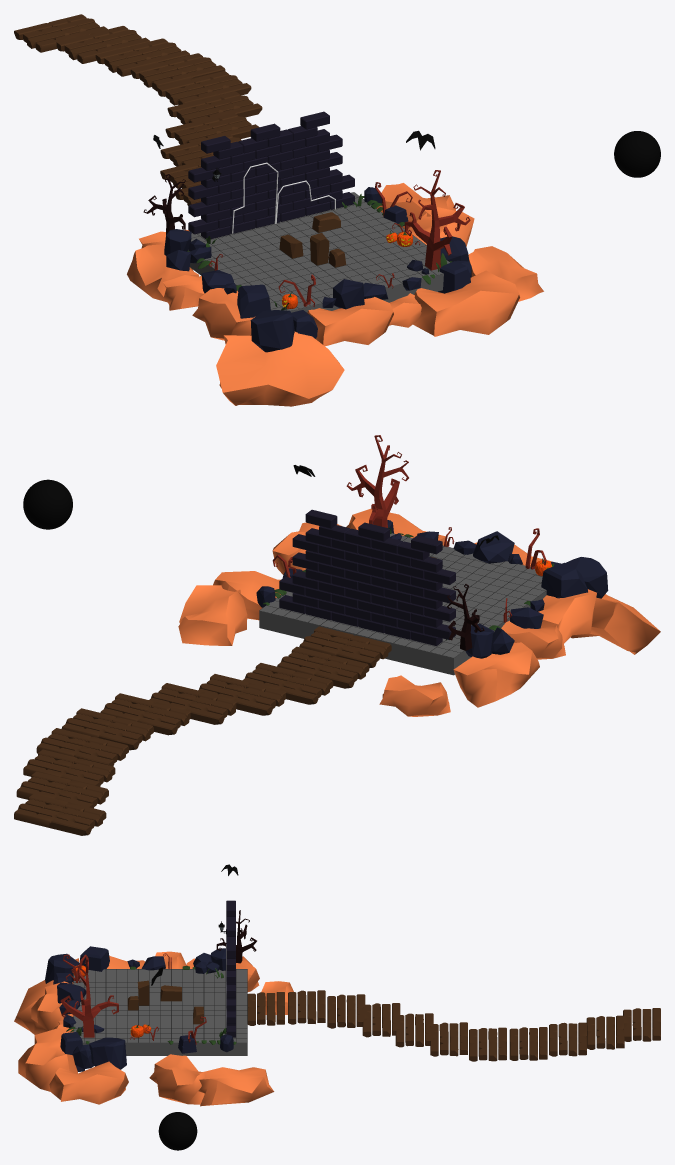
Rendered from ShadowWanderer_LVL1_01.FBX.
3 views of the same model, one above another, from view 1: azimuth 30°, elevation 25°; view 2: azimuth 150°, elevation 25°; view 3: azimuth 270°, elevation 25° (orthographic). The views are drawn at different scales.
Parts seen in each view (by area): view 1: Cloud_01, Box028, Ground, Wall, Stones, Portal, Grid, BigTree, Sphere001, Branches, SmallTree, Plants; view 2: Box028, Cloud_01, Wall, Ground, Stones, Portal, Sphere001, BigTree, Grid, SmallTree, Branches; view 3: Box028, Cloud_01, Ground, Stones, Grid, Wall, Sphere001, BigTree, Branches, SmallTree.
Boxes of the visible parts, <box> form: Cloud_01: <box>127,183,543,406</box>; Box028: <box>14,14,262,205</box>; Ground: <box>188,192,449,312</box>; Wall: <box>188,111,354,239</box>; Stones: <box>164,187,471,352</box>; Portal: <box>230,162,305,233</box>; Grid: <box>191,192,448,310</box>; BigTree: <box>404,170,470,270</box>; Sphere001: <box>614,131,660,177</box>; Branches: <box>208,182,420,306</box>; SmallTree: <box>143,174,185,234</box>; Plants: <box>187,194,447,310</box>; Box028: <box>14,626,391,835</box>; Cloud_01: <box>178,508,660,716</box>; Wall: <box>279,509,455,645</box>; Ground: <box>259,533,546,675</box>; Stones: <box>256,520,608,658</box>; Portal: <box>332,563,411,639</box>; Sphere001: <box>23,479,72,529</box>; BigTree: <box>346,435,408,527</box>; Grid: <box>259,533,545,657</box>; SmallTree: <box>447,584,484,650</box>; Branches: <box>272,527,546,622</box>; Box028: <box>247,990,660,1061</box>; Cloud_01: <box>14,951,293,1106</box>; Ground: <box>73,969,247,1055</box>; Stones: <box>45,946,233,1071</box>; Grid: <box>73,969,247,1042</box>; Wall: <box>226,900,235,1037</box>; Sphere001: <box>158,1112,197,1150</box>; BigTree: <box>60,956,118,1037</box>; Branches: <box>63,953,206,1044</box>; SmallTree: <box>216,910,256,963</box>.
Size of the model in its own units: 896 by 317 by 1184.
